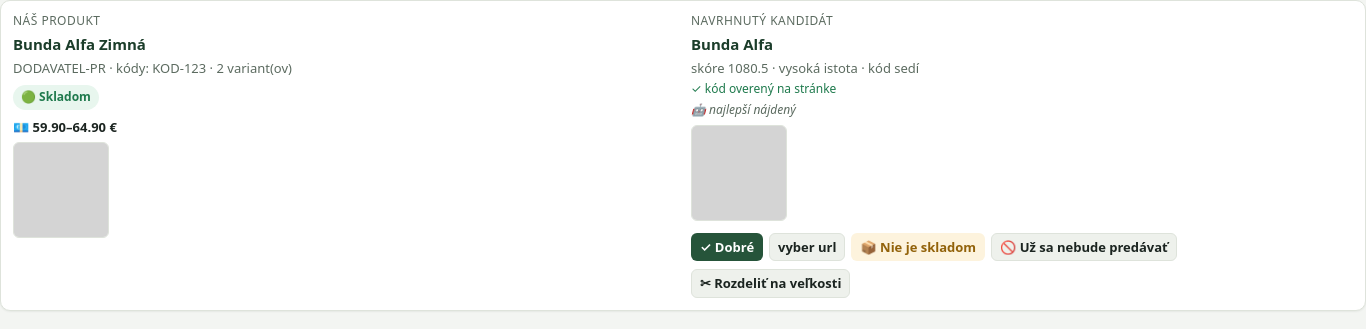
Test case: split riadok: uloženie manuálnej URL zavolá savePairingVariantLink a prepne stav na '✓ link nastavený'
Click the button with test id "pairing-review-split-PR-1": coordinates (771, 284) x1=691 y1=269 x2=850 y2=298
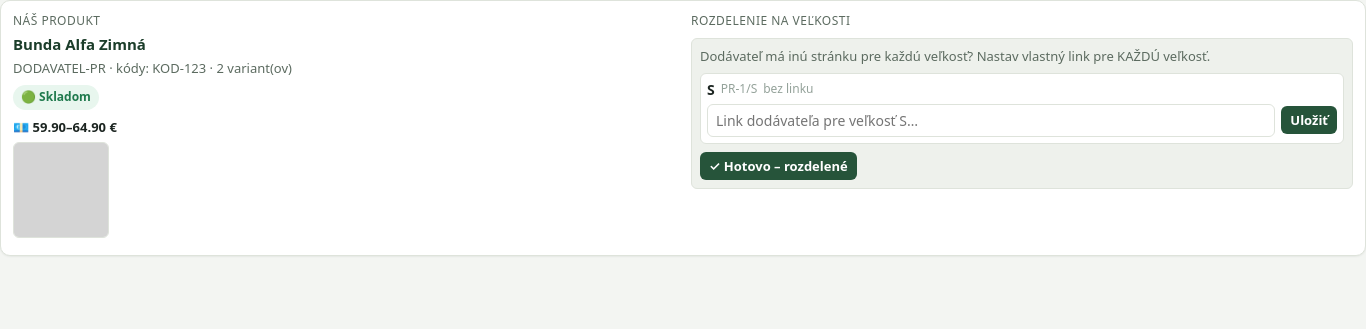
Check: the element with test id "pairing-review-split-row-PR-1/S" is shown, box x1=700 y1=73 x2=1344 y2=144
In the field with test id "pairing-review-split-input-PR-1/S": coordinates (991, 120) x1=707 y1=104 x2=1275 y2=137, type "https://dodavatel.example.com/velkost-s"
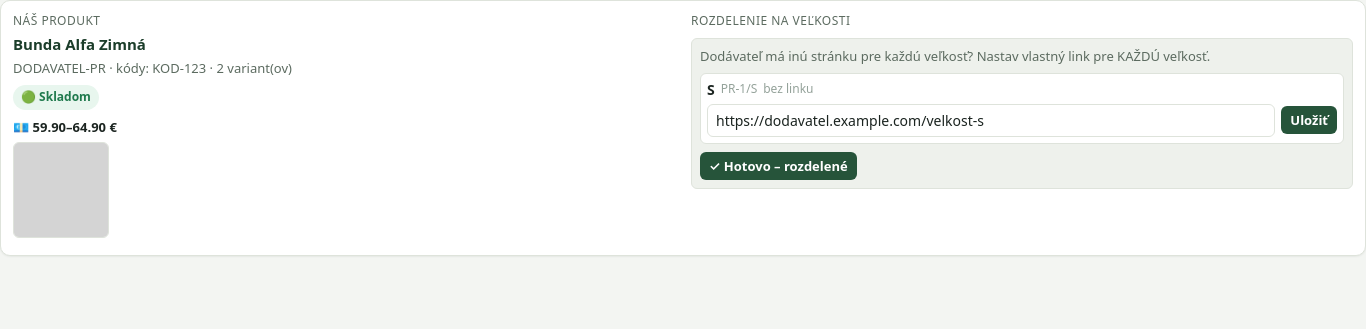
Click the button with test id "pairing-review-split-save-PR-1/S": coordinates (1309, 120) x1=1281 y1=106 x2=1337 y2=134
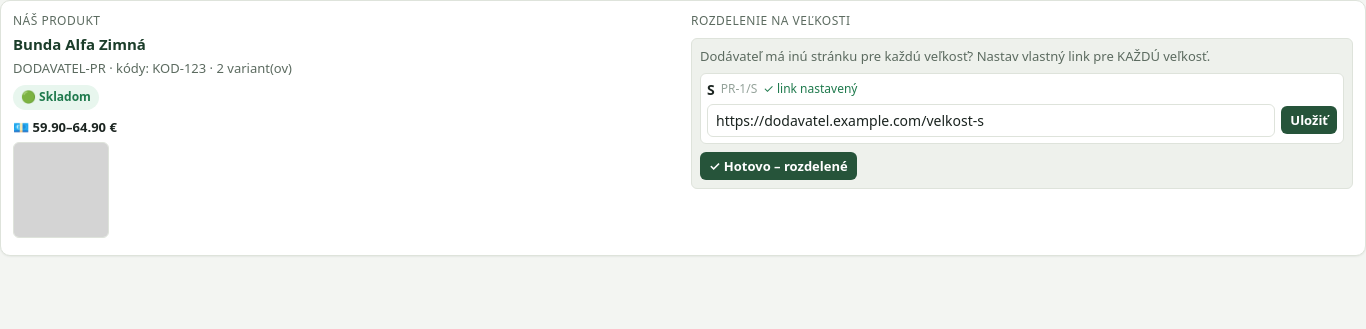
Check: the text with test id "pairing-review-split-state-PR-1/S" reads "✓ link nastavený", box x1=763 y1=80 x2=857 y2=97
